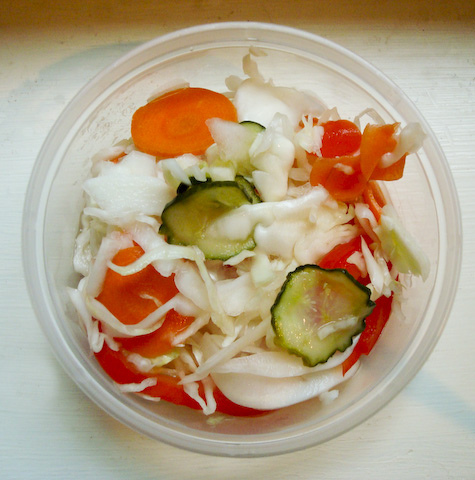cucumber: (269, 263, 376, 369), (159, 180, 258, 261), (203, 119, 268, 177)
